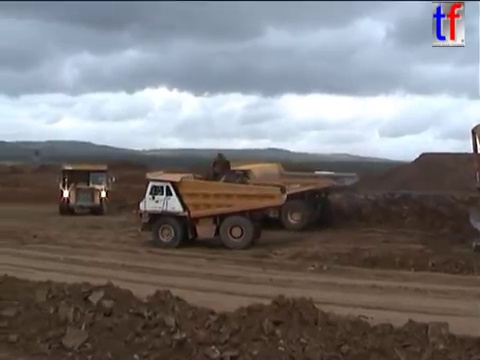excavator: (467, 121, 480, 255)
truck: (132, 169, 289, 251), (211, 160, 359, 232), (55, 162, 116, 216)
